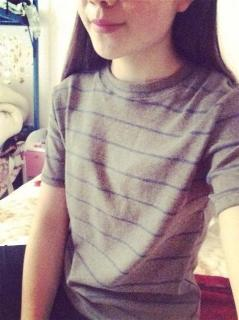short sleeve top: (41, 49, 239, 319)
